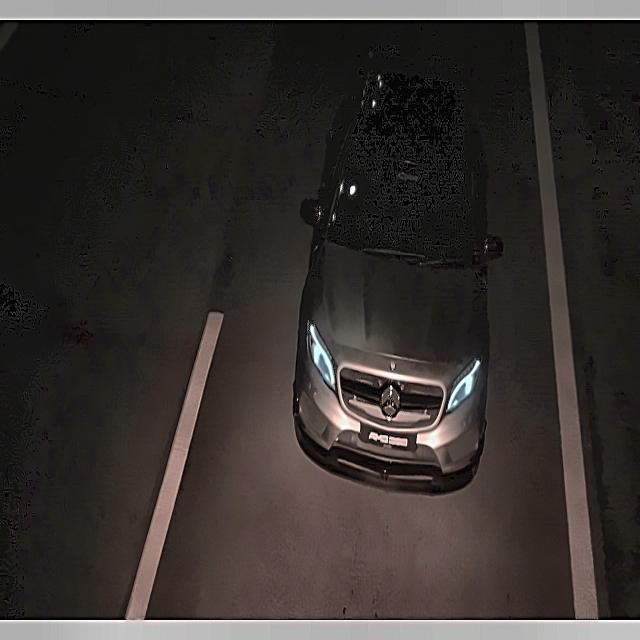car: (356, 417, 422, 453)
